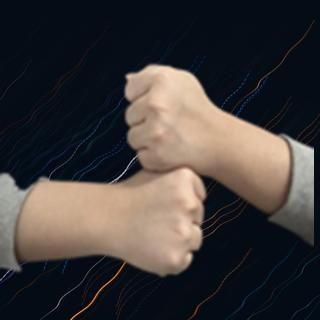CAREFUL: (41, 64, 295, 279)
